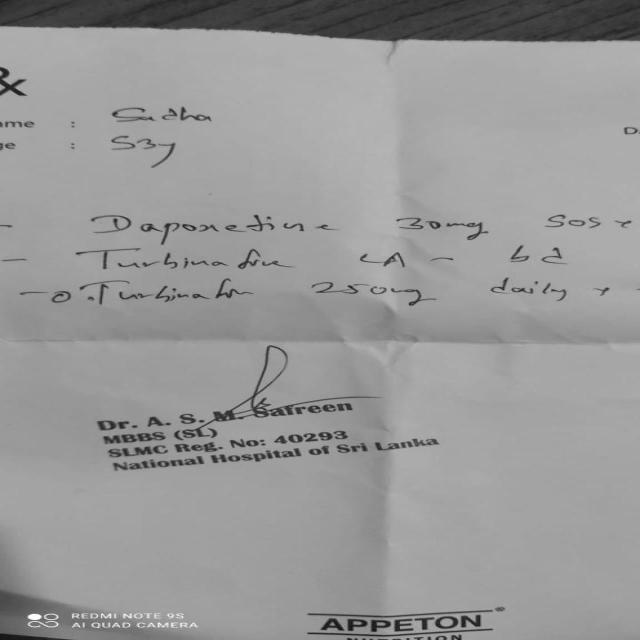Prescription: (88, 238, 568, 274), (85, 273, 572, 305), (87, 208, 607, 234)
